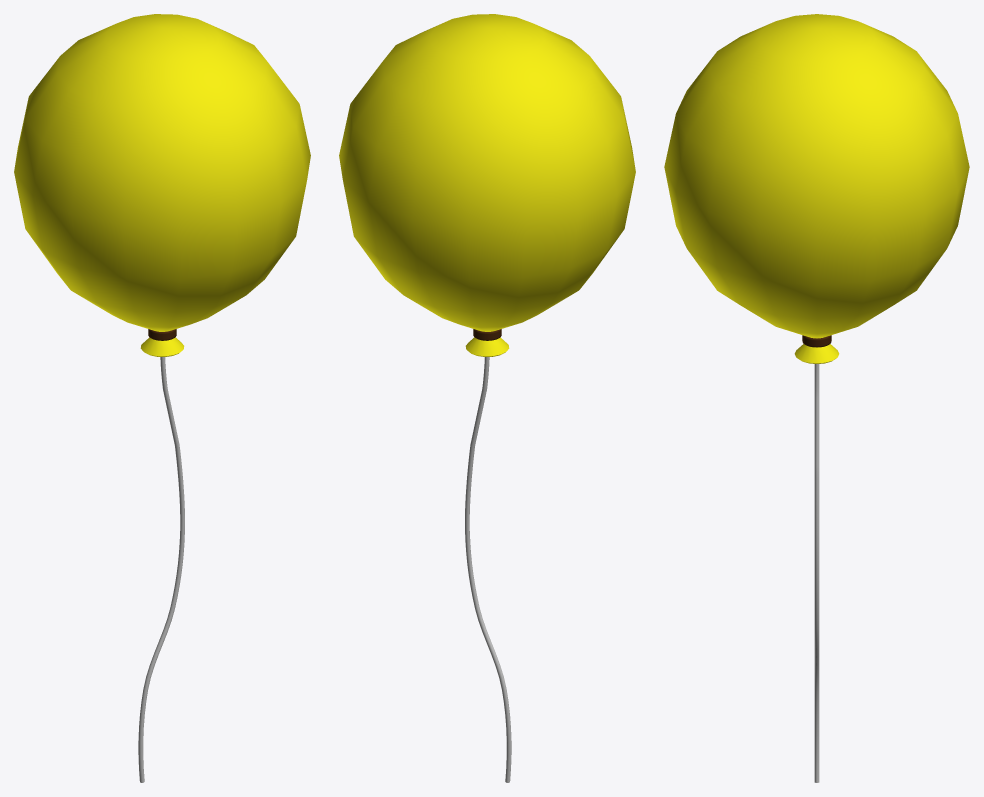
File: Balloon_Yellow.FBX
The picture shows the model from 3 angles, left to right: view 1: azimuth 30°, elevation 25°; view 2: azimuth 150°, elevation 25°; view 3: azimuth 270°, elevation 25°; orthographic projection.
Parts seen in each view (by area): view 1: Sphere001; view 2: Sphere001; view 3: Sphere001.
Part boxes in pixels (box(x1,y1,x2,y2)): Sphere001: box(14, 14, 310, 782); Sphere001: box(339, 14, 635, 782); Sphere001: box(664, 14, 969, 782).
Size of the model in its own units: 62.15 by 172 by 62.15.
